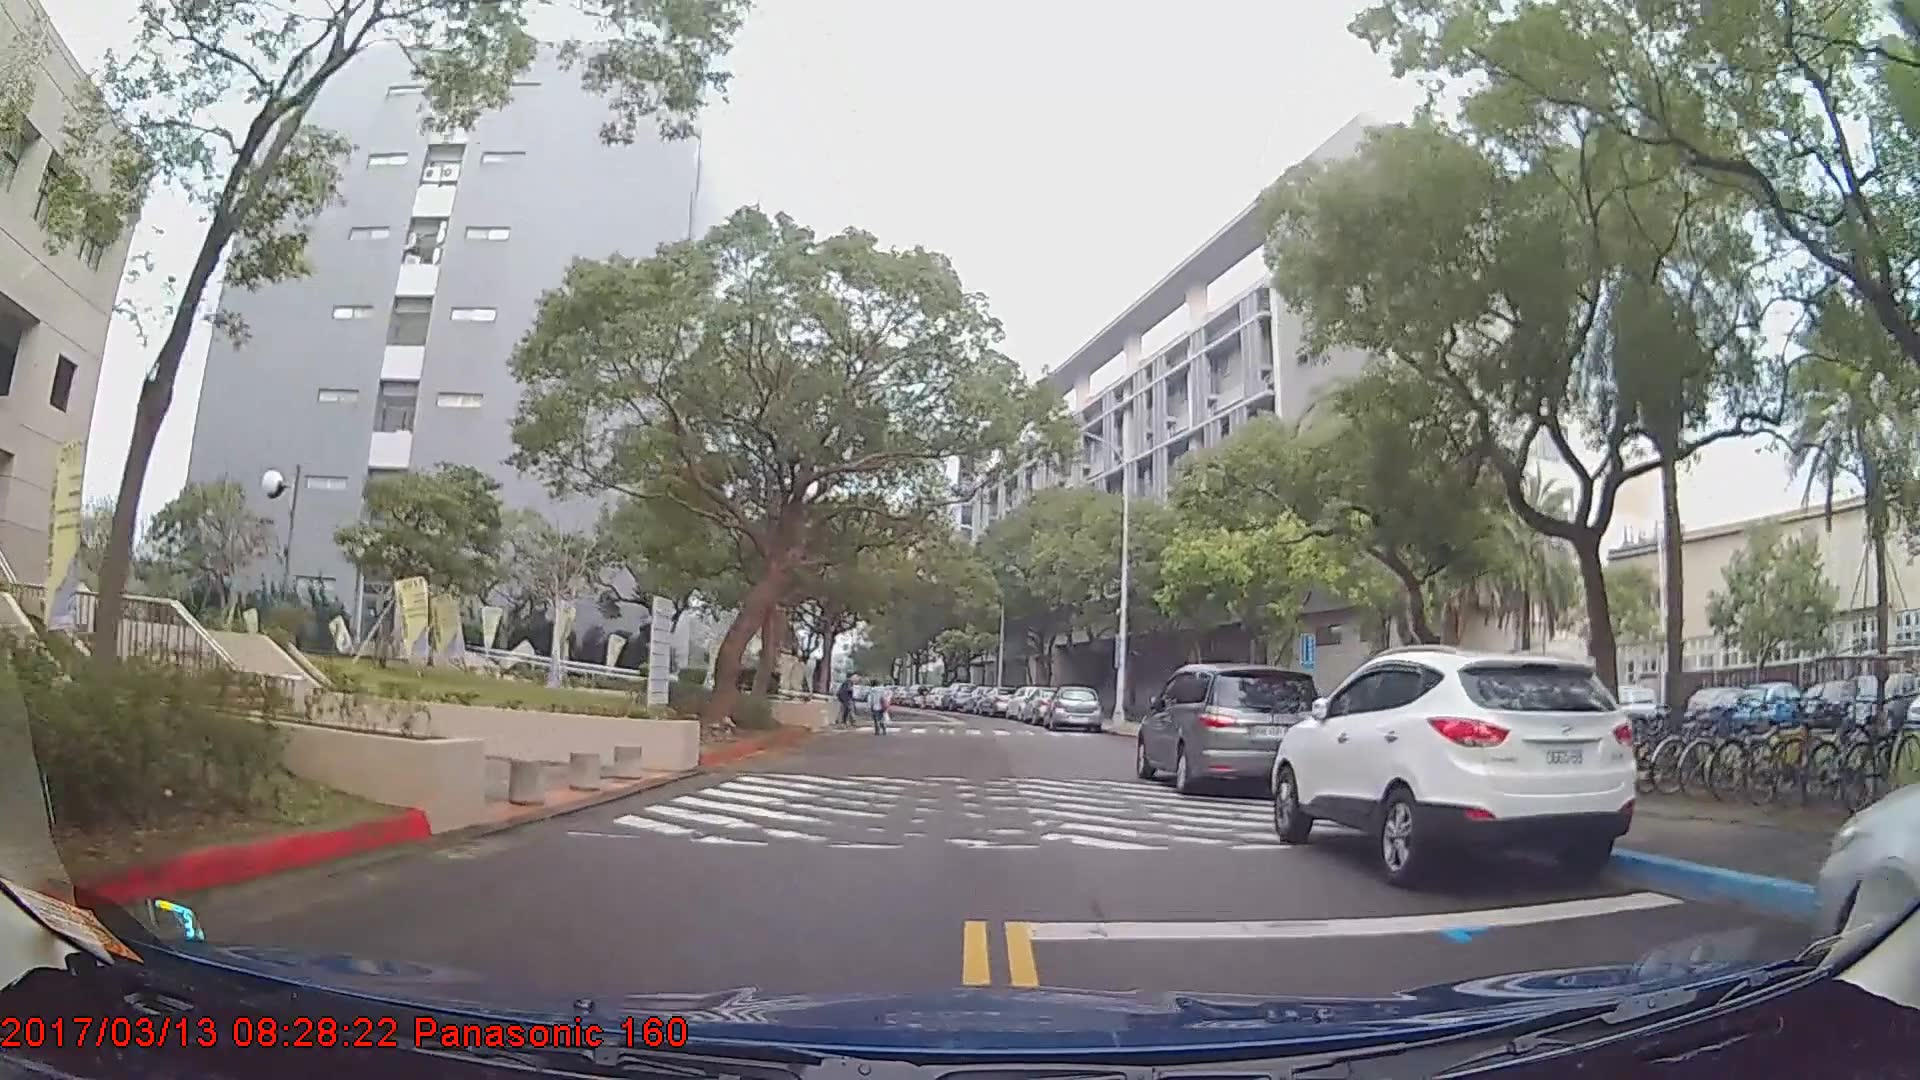pedestrian: (861, 681, 891, 740), (837, 672, 859, 727)
vehicle: (1265, 645, 1643, 886), (1134, 660, 1327, 798), (1525, 683, 1658, 749), (1791, 678, 1876, 735), (1678, 684, 1765, 735), (1729, 680, 1806, 736), (1047, 682, 1103, 734), (938, 680, 975, 711)
